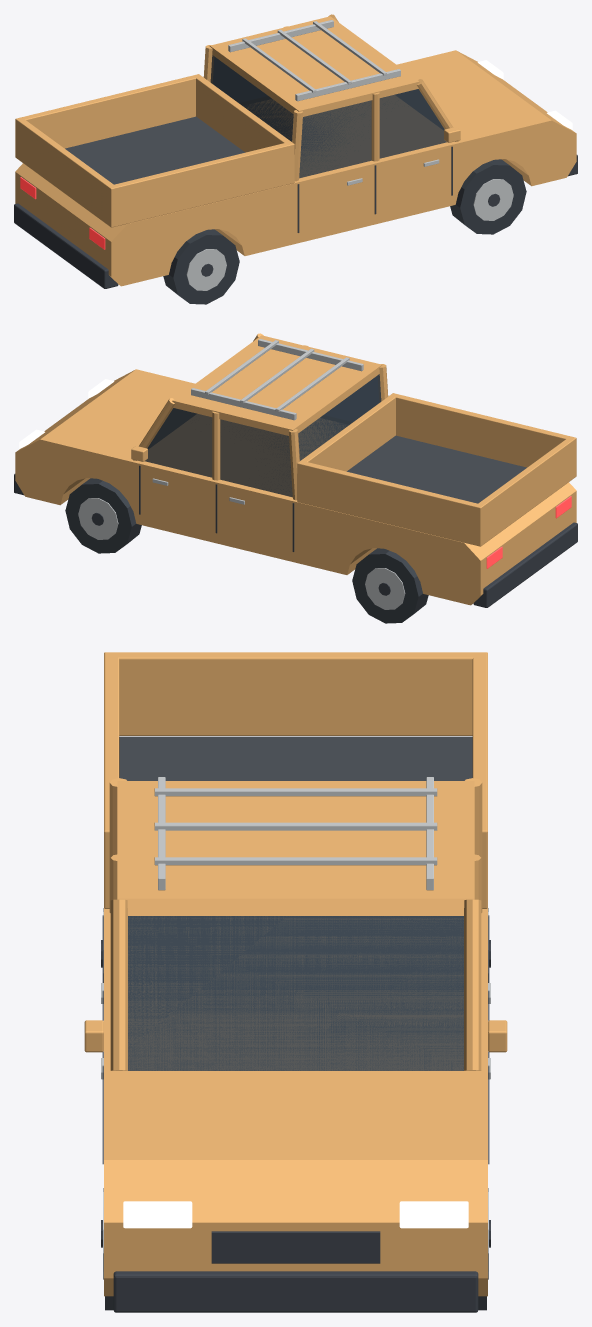
The model's file is rover_body.glb.
The picture shows the model from 3 angles, top to bottom: view 1: azimuth 30°, elevation 25°; view 2: azimuth 150°, elevation 25°; view 3: azimuth 270°, elevation 25°; orthographic projection. The views are drawn at different scales.
Parts seen in each view (by area): view 1: car; view 2: car; view 3: car.
Part boxes in pixels (box(x1,y1,x2,y2)): car: box(14, 14, 577, 304); car: box(14, 333, 577, 623); car: box(84, 652, 507, 1312).
Size of the model in its own units: 5.7 by 2.02 by 2.2.
